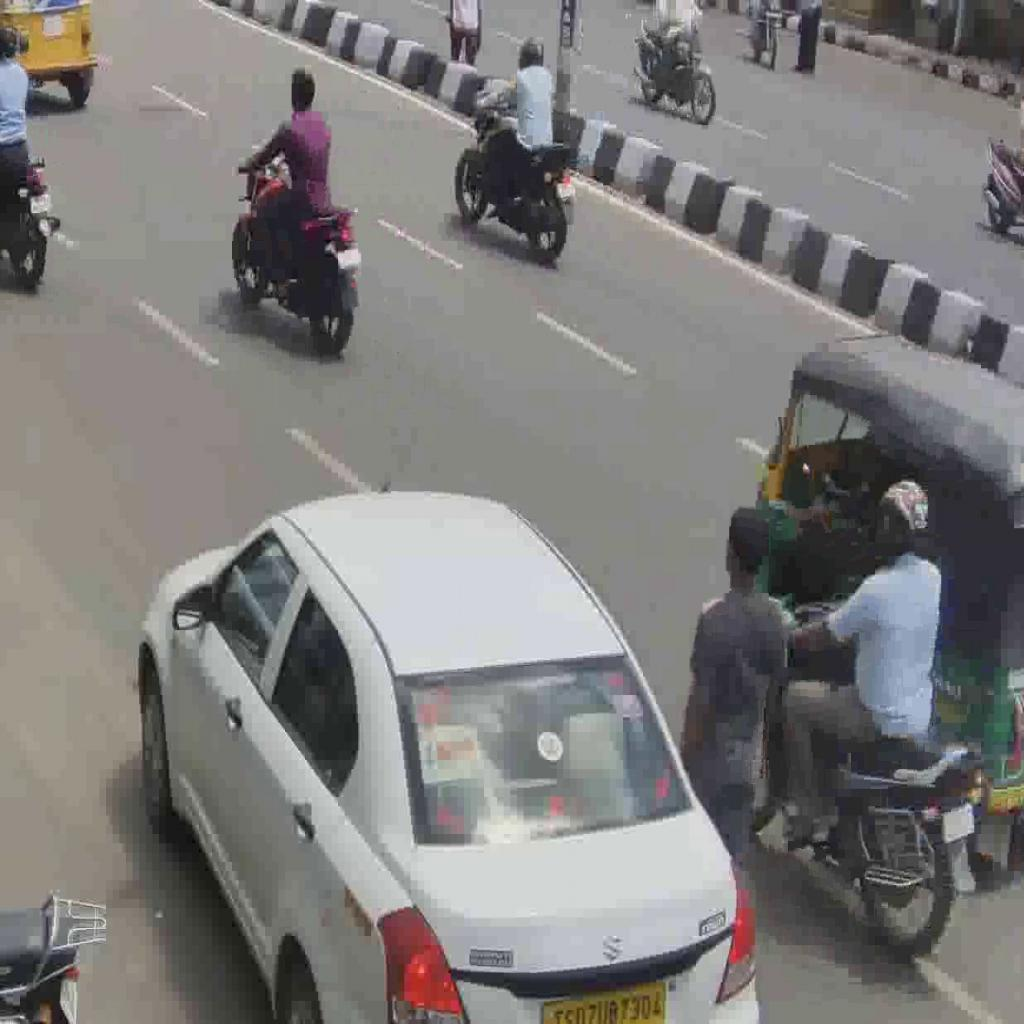helmet: (789, 598, 982, 966), (231, 144, 363, 360), (454, 89, 577, 265)
